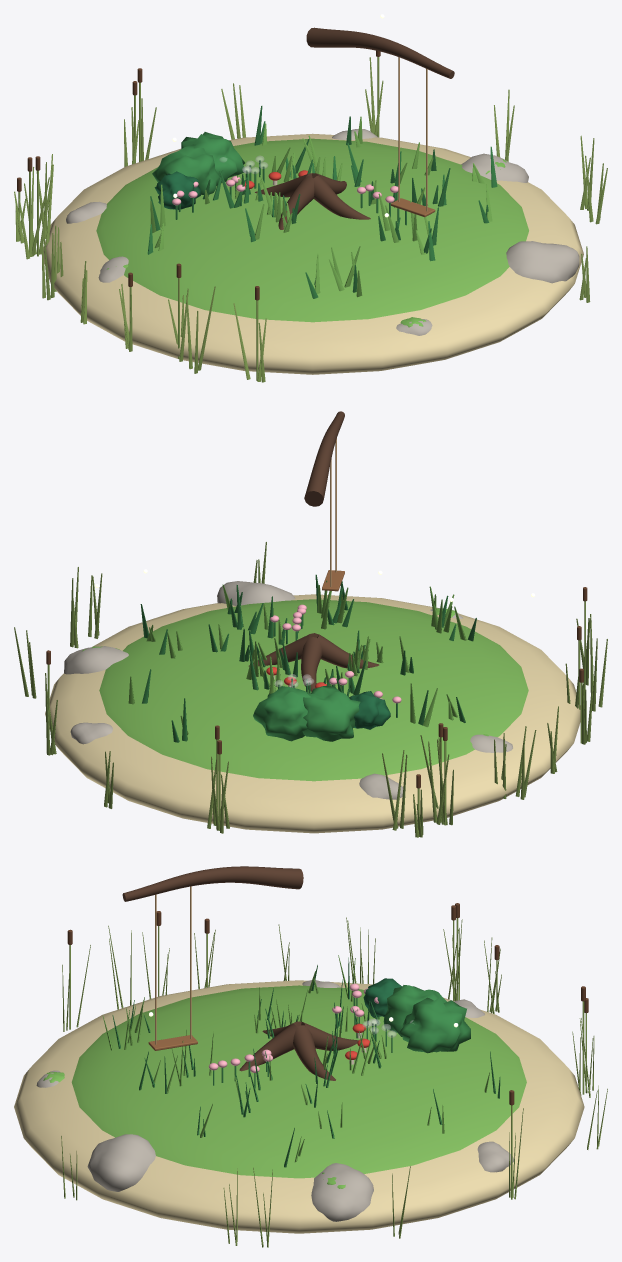
The model's file is islet_00.glb.
3 renders of one model, top to bottom at view 1: azimuth 30°, elevation 25°; view 2: azimuth 150°, elevation 25°; view 3: azimuth 270°, elevation 25°, orthographic. The views are drawn at different scales.
Parts seen in each view (by area): view 1: islet_grass, islet_sand, rock.005, swing_branch, bush.001, bush, bush.002, rock, root.003, root.002, rock.004, rock.001; view 2: islet_grass, islet_sand, bush.001, bush, swing_branch, rock.005, rock, bush.002, root.001, rock.001, root.002, rock.003 (+2 smaller); view 3: islet_grass, islet_sand, bush, rock.005, swing_branch, rock, bush.001, root, root.003, bush.002, rock.003, root.001.
Part boxes in pixels (left/top/right/bottom): islet_grass: left=96, top=138, right=528, bottom=322; islet_sand: left=41, top=133, right=583, bottom=374; rock.005: left=506, top=241, right=579, bottom=283; swing_branch: left=306, top=27, right=454, bottom=78; bush.001: left=152, top=144, right=221, bottom=194; bush: left=181, top=132, right=245, bottom=182; bush.002: left=154, top=171, right=200, bottom=209; rock: left=461, top=153, right=528, bottom=182; root.003: left=312, top=175, right=370, bottom=219; root.002: left=278, top=176, right=315, bottom=229; rock.004: left=98, top=256, right=128, bottom=282; rock.001: left=66, top=201, right=106, bottom=223; islet_grass: left=99, top=599, right=528, bottom=781; islet_sand: left=45, top=594, right=580, bottom=833; bush.001: left=302, top=686, right=360, bottom=741; bush: left=253, top=686, right=310, bottom=741; swing_branch: left=304, top=411, right=344, bottom=506; rock.005: left=217, top=581, right=295, bottom=605; rock: left=64, top=646, right=128, bottom=674; bush.002: left=349, top=691, right=390, bottom=729; root.001: left=301, top=637, right=322, bottom=691; rock.001: left=359, top=773, right=403, bottom=799; root.002: left=317, top=634, right=379, bottom=668; rock.003: left=70, top=722, right=112, bottom=744; islet_grass: left=71, top=985, right=526, bottom=1178; islet_sand: left=14, top=980, right=584, bottom=1233; bush: left=398, top=997, right=470, bottom=1053; rock.005: left=87, top=1134, right=155, bottom=1191; swing_branch: left=122, top=866, right=303, bottom=901; rock: left=311, top=1163, right=373, bottom=1221; bush.001: left=383, top=985, right=446, bottom=1036; root: left=293, top=1025, right=335, bottom=1080; root.003: left=239, top=1023, right=297, bottom=1071; bush.002: left=363, top=978, right=402, bottom=1017; rock.003: left=477, top=1141, right=513, bottom=1172; root.001: left=301, top=1021, right=358, bottom=1050.
Size of the model in its own units: 8.21 by 4.31 by 7.91.
